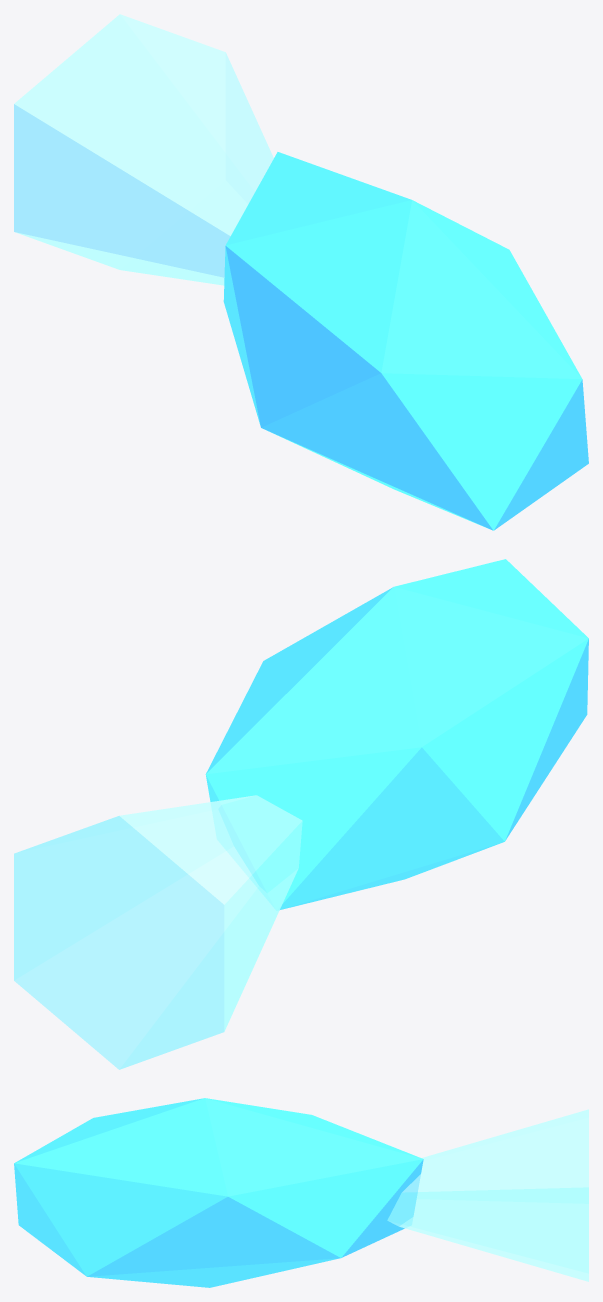
The model's file is crystal-shot.glb.
3 renders of one model, top to bottom at view 1: azimuth 30°, elevation 25°; view 2: azimuth 150°, elevation 25°; view 3: azimuth 270°, elevation 25°, orthographic. The views are drawn at different scales.
Visible parts, largest first — view 1: crystal-shot; view 2: crystal-shot; view 3: crystal-shot.
Part boxes in pixels (bbox=[...]): crystal-shot: bbox=[14, 14, 588, 530]; crystal-shot: bbox=[14, 559, 588, 1069]; crystal-shot: bbox=[14, 1098, 588, 1287].
Size of the model in its own units: 0.0905 by 0.1014 by 0.2715.
